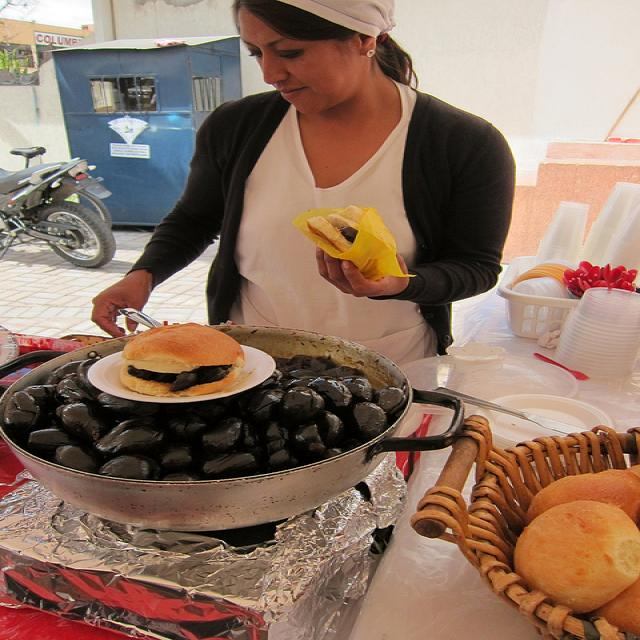motor: (3, 158, 120, 269)
